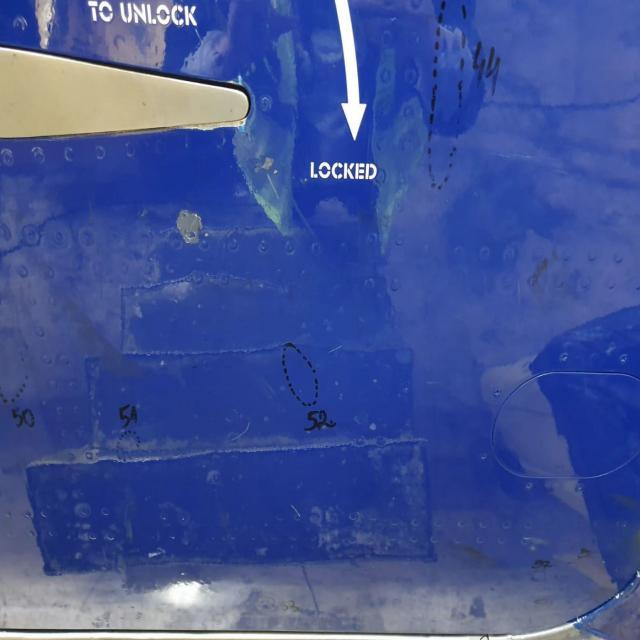crack: (470, 636, 489, 640)
